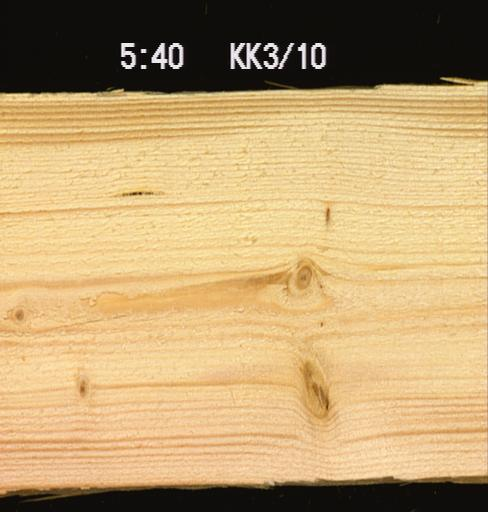small_knot: (77, 375, 90, 399), (13, 304, 25, 321), (323, 204, 330, 226)
sound_knot: (298, 352, 334, 419), (287, 260, 320, 293)
wave: (264, 474, 487, 484)
